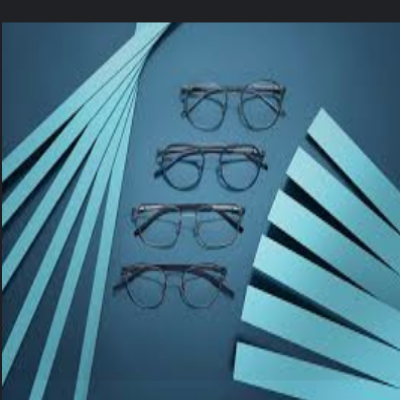glasses: (112, 260, 241, 314), (151, 137, 271, 194), (172, 79, 291, 133), (128, 199, 246, 253)
